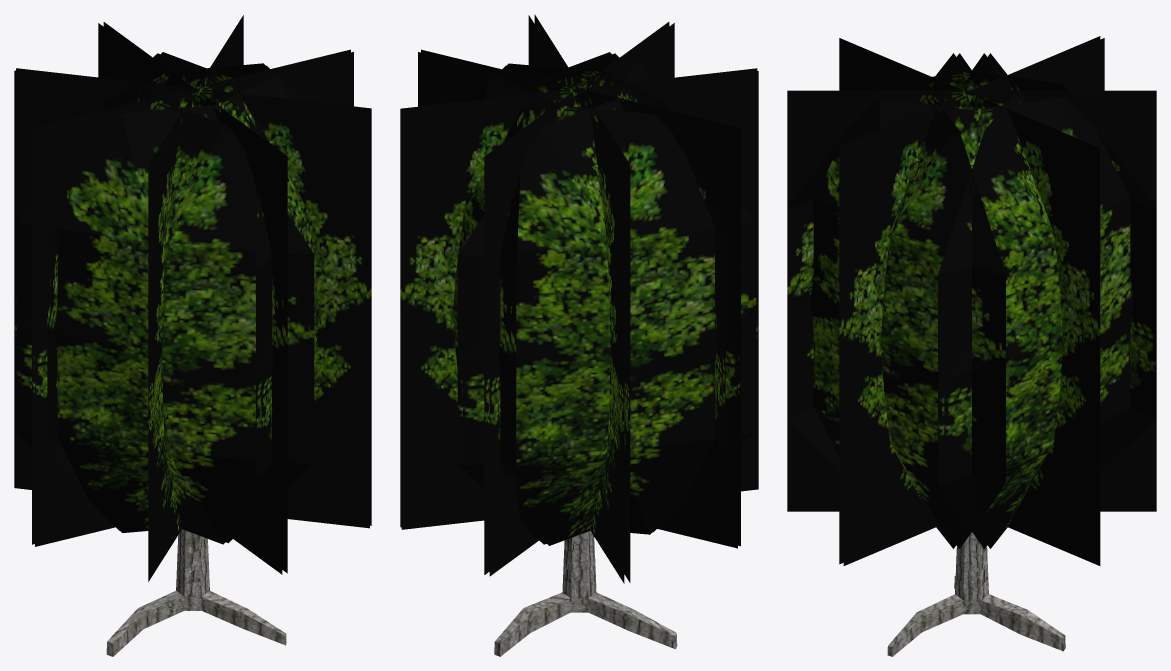
The model's file is tree02.gltf.
The picture shows the model from 3 angles, left to right: view 1: azimuth 30°, elevation 25°; view 2: azimuth 150°, elevation 25°; view 3: azimuth 270°, elevation 25°; orthographic projection.
Parts seen in each view (by area): view 1: tree02_top, tree02; view 2: tree02_top, tree02; view 3: tree02_top, tree02.
Part boxes in pixels (left/top/right/bottom): tree02_top: left=14, top=15, right=371, bottom=581; tree02: left=106, top=529, right=286, bottom=656; tree02_top: left=400, top=14, right=758, bottom=583; tree02: left=494, top=530, right=677, bottom=656; tree02_top: left=787, top=36, right=1156, bottom=565; tree02: left=887, top=532, right=1065, bottom=656.
Bounding box in the file's own units: 2.4 × 3.88 × 2.4.
1 material, 1 textured.
